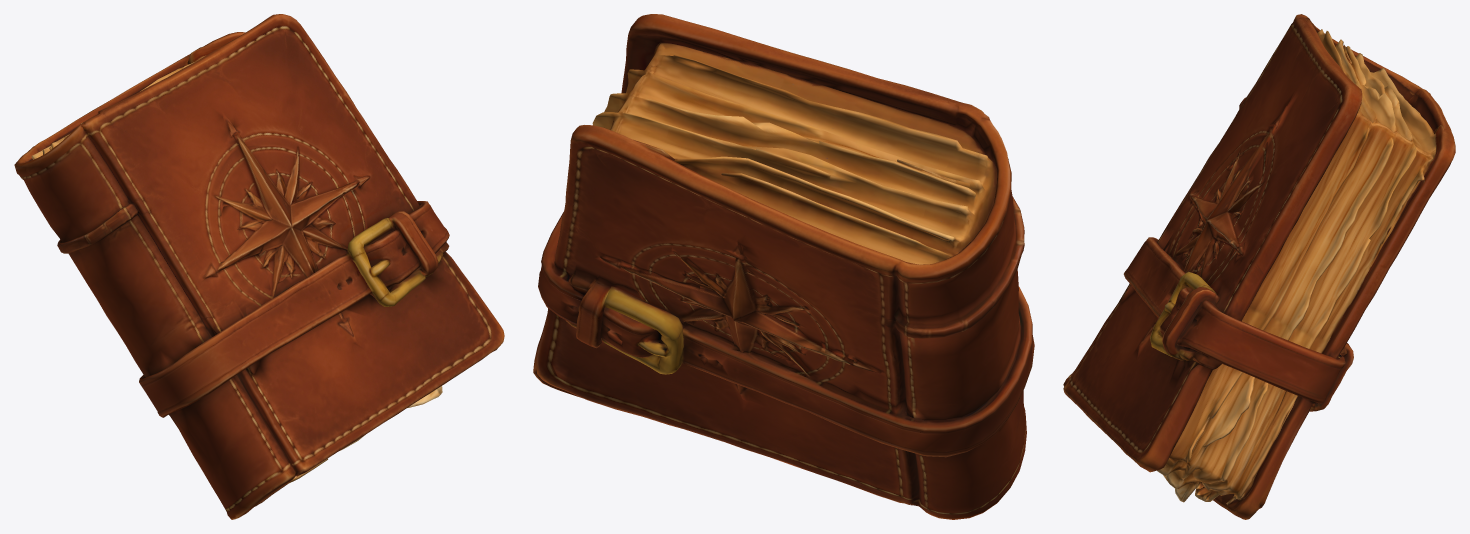
The model's file is journal.glb.
3 renders of one model, left to right at view 1: azimuth 30°, elevation 25°; view 2: azimuth 150°, elevation 25°; view 3: azimuth 270°, elevation 25°, orthographic. The views are drawn at different scales.
Parts seen in each view (by area): view 1: tripo_node_921eaaa0-ec93-4aa4-ae06-718b5d32dcc2; view 2: tripo_node_921eaaa0-ec93-4aa4-ae06-718b5d32dcc2; view 3: tripo_node_921eaaa0-ec93-4aa4-ae06-718b5d32dcc2.
Boxes of the visible parts, x1,y1,x2,y2 form: tripo_node_921eaaa0-ec93-4aa4-ae06-718b5d32dcc2: (14, 14, 504, 519); tripo_node_921eaaa0-ec93-4aa4-ae06-718b5d32dcc2: (533, 14, 1034, 519); tripo_node_921eaaa0-ec93-4aa4-ae06-718b5d32dcc2: (1063, 14, 1455, 519).
Bounding box in the file's own units: 0.9778 × 0.9778 × 0.7979.
1 material, 1 textured.
